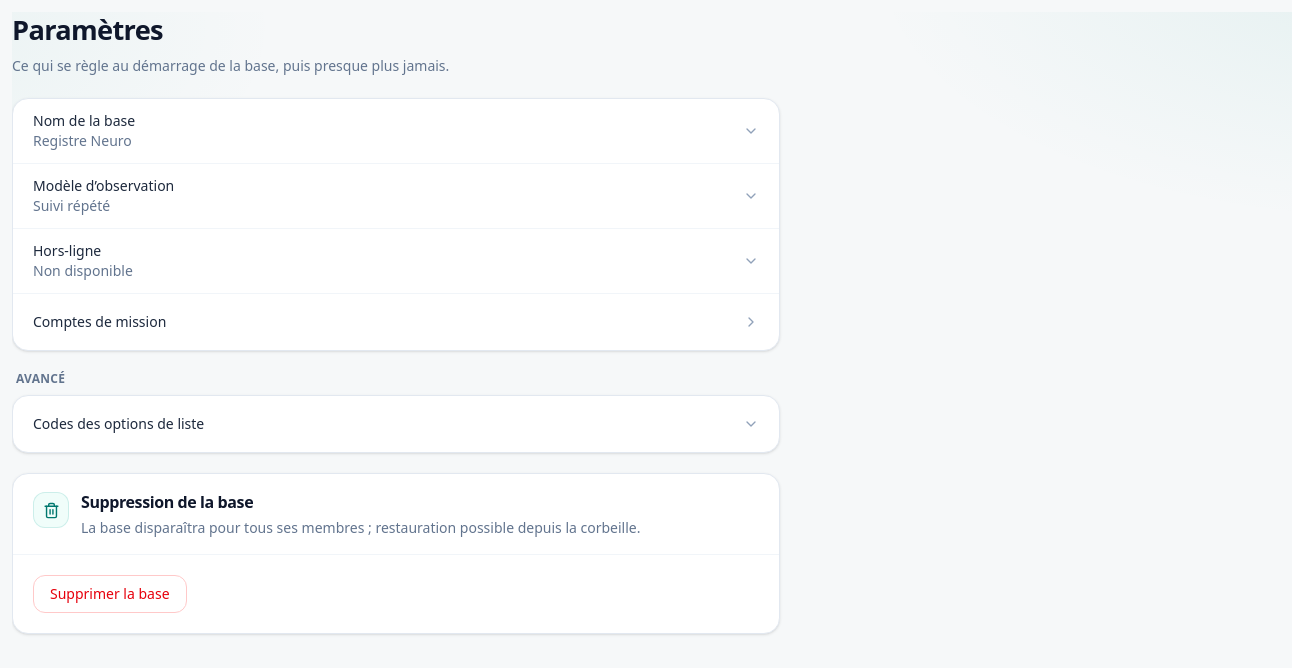
BaseSettings — conversion des codes d options (L30) › rien a convertir : le dit, et n offre pas la conversion
This screenshot has width=1292, height=668.
What coordinates should you click on to do the following:
click the button "Codes des options de liste"
I would click on:
 (119, 424)
Its box is [13, 396, 779, 452].
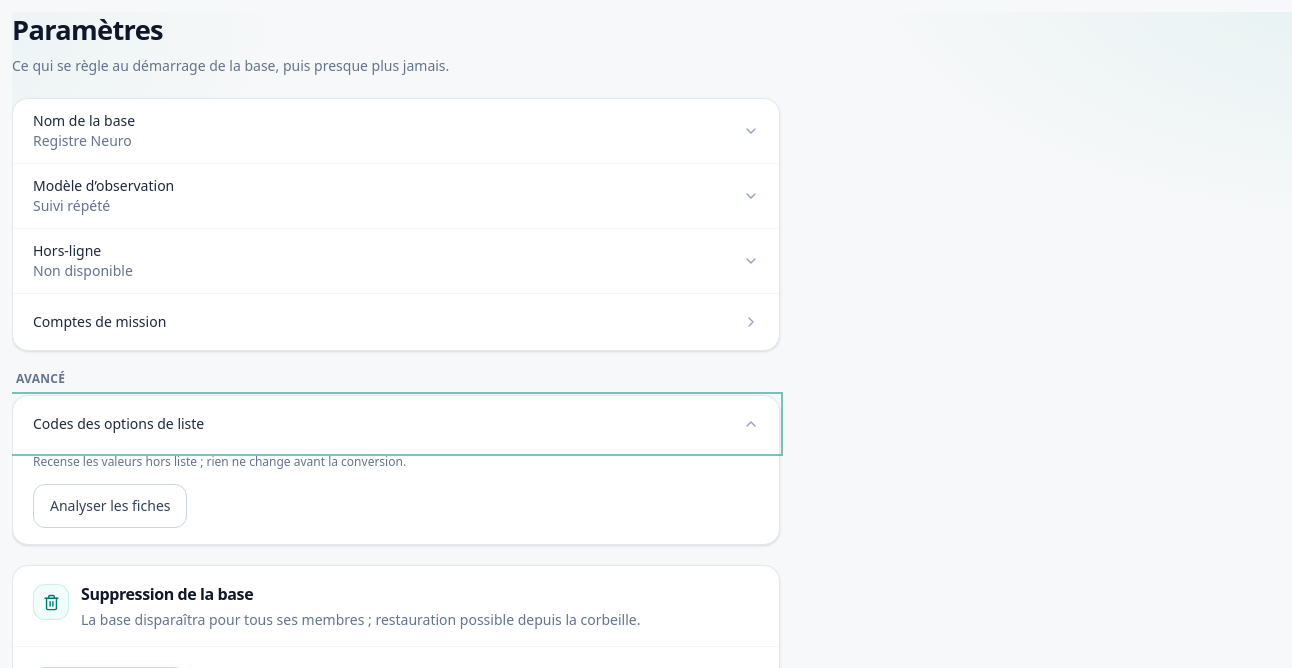
What coordinates should you click on to do the following:
click the button "Analyser les fiches"
I would click on:
 (110, 506)
Its box is [33, 484, 188, 528].
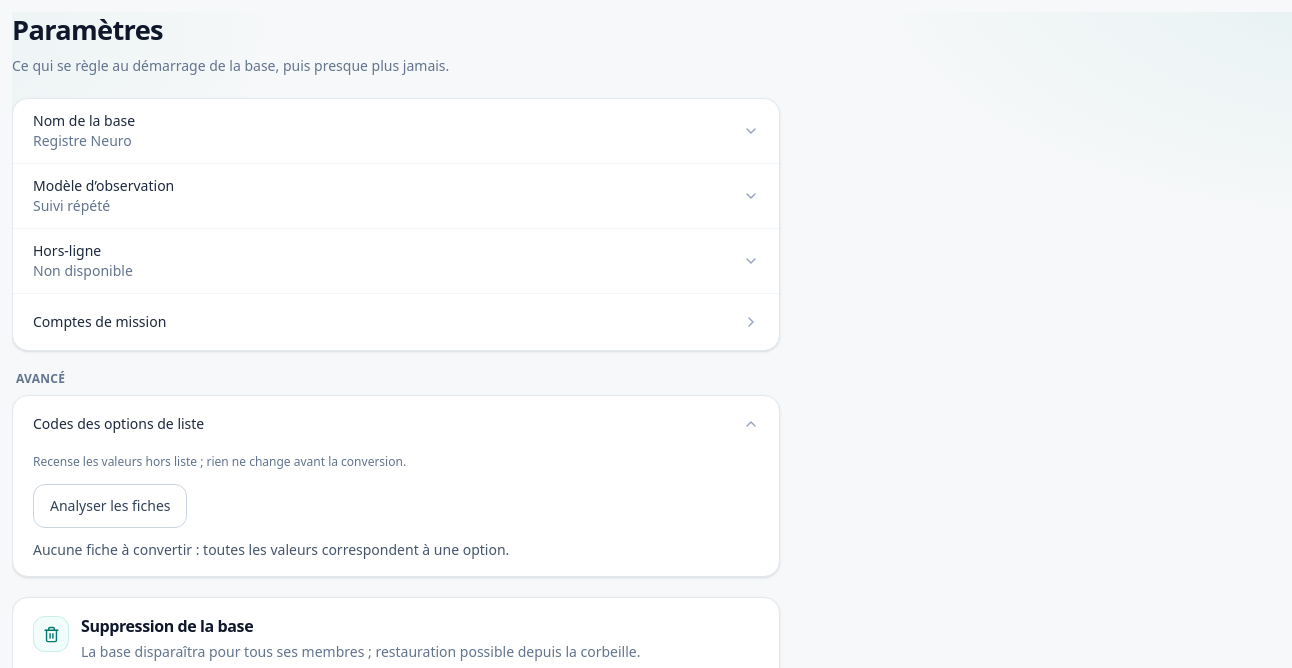
Result: the text "Aucune fiche à convertir" is shown at [33, 540, 509, 559]
